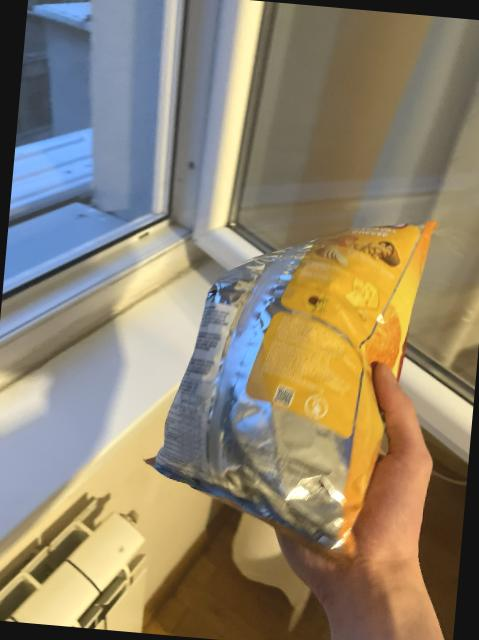Chio Cascaval 125g: (142, 202, 425, 564)
